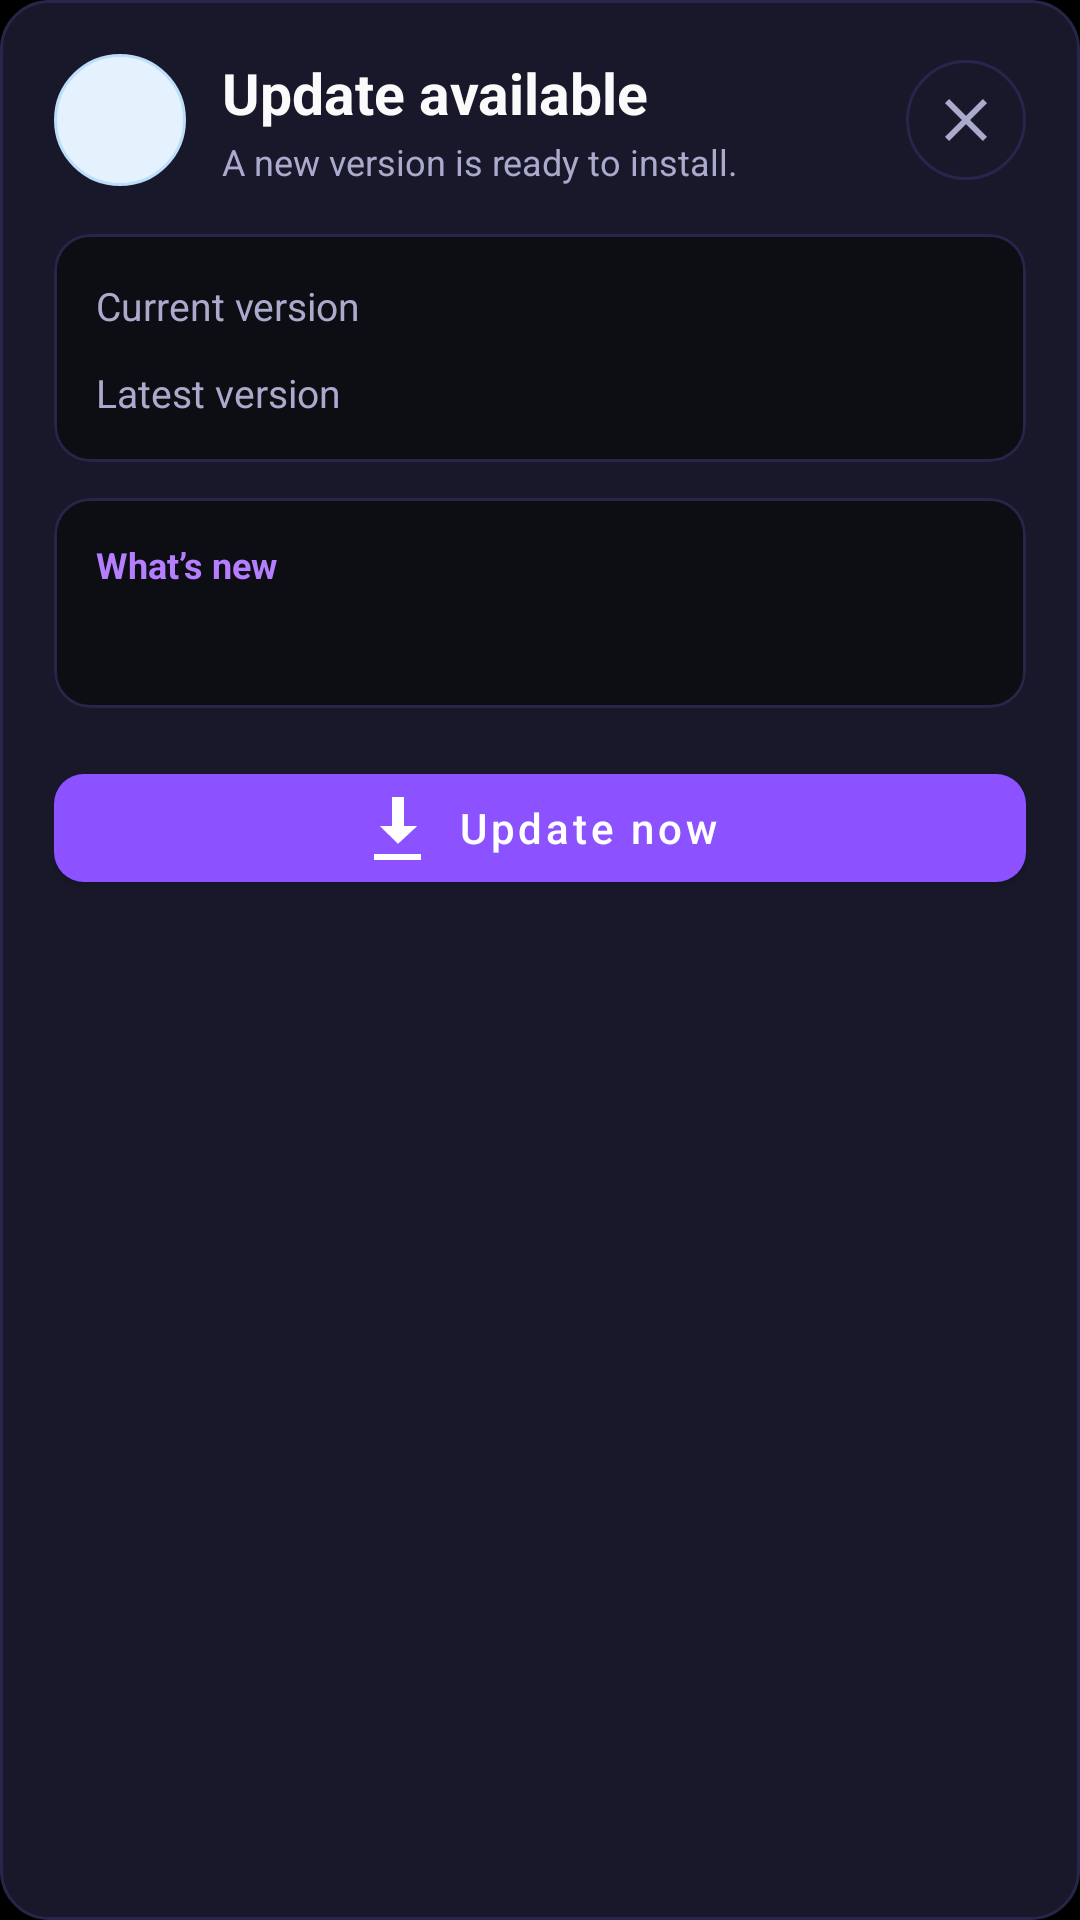

Icons on this 1080 x 1920 Android screen, each with the point to tap as point (x, y):
Close: point (966, 120)
